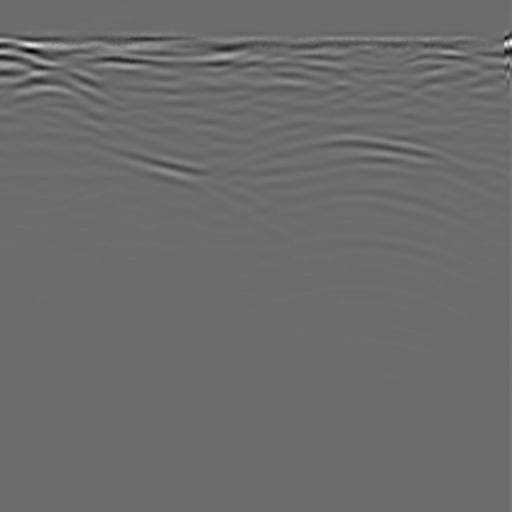hyperbola: (213, 122, 487, 228)
